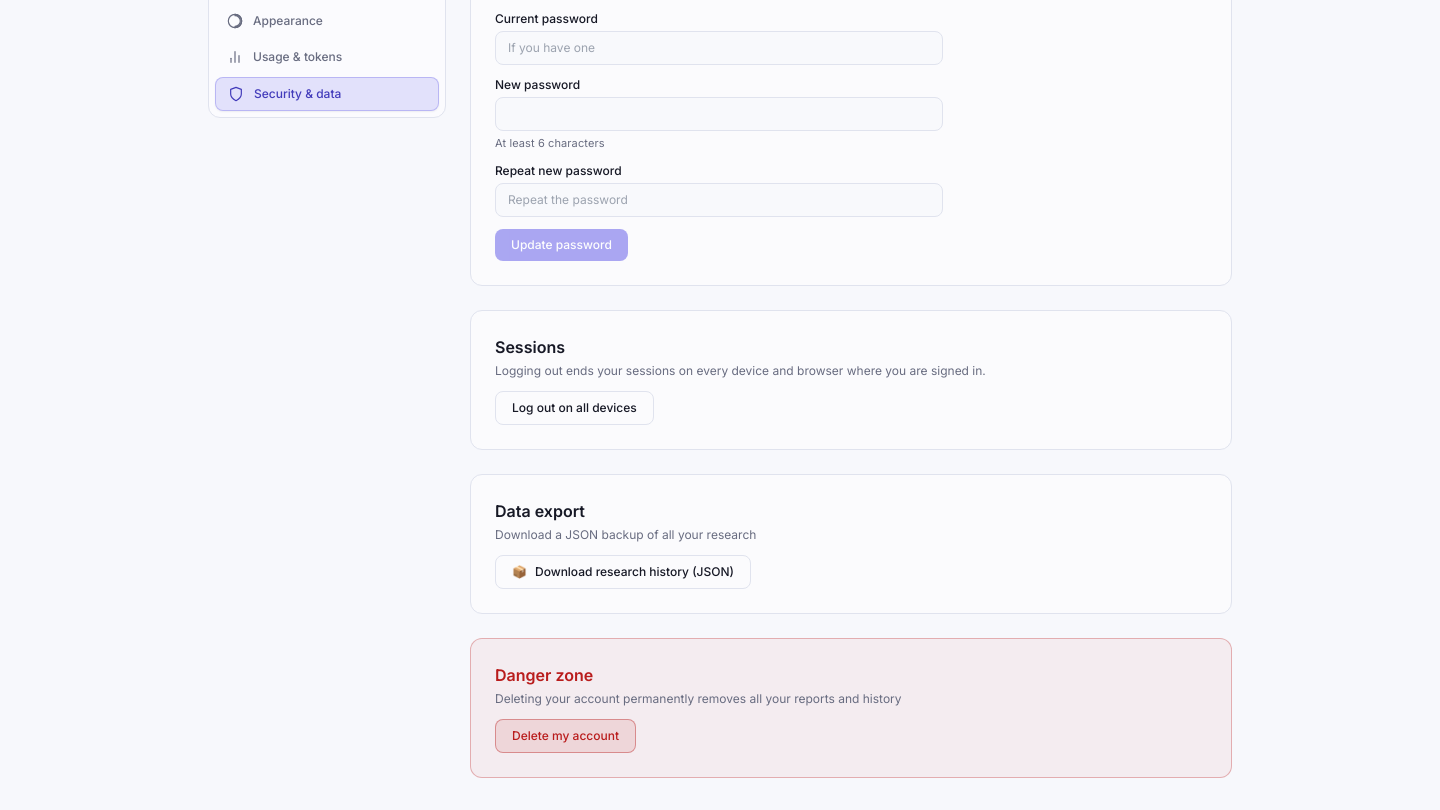
Scenario: SettingsView › drops the Google sign-in offer when the delete modal is closed
(page scrolled)
What coordinates should you click on to do the following:
click the button "Delete my account"
I would click on:
 (566, 736)
Its box is [495,719,636,753].
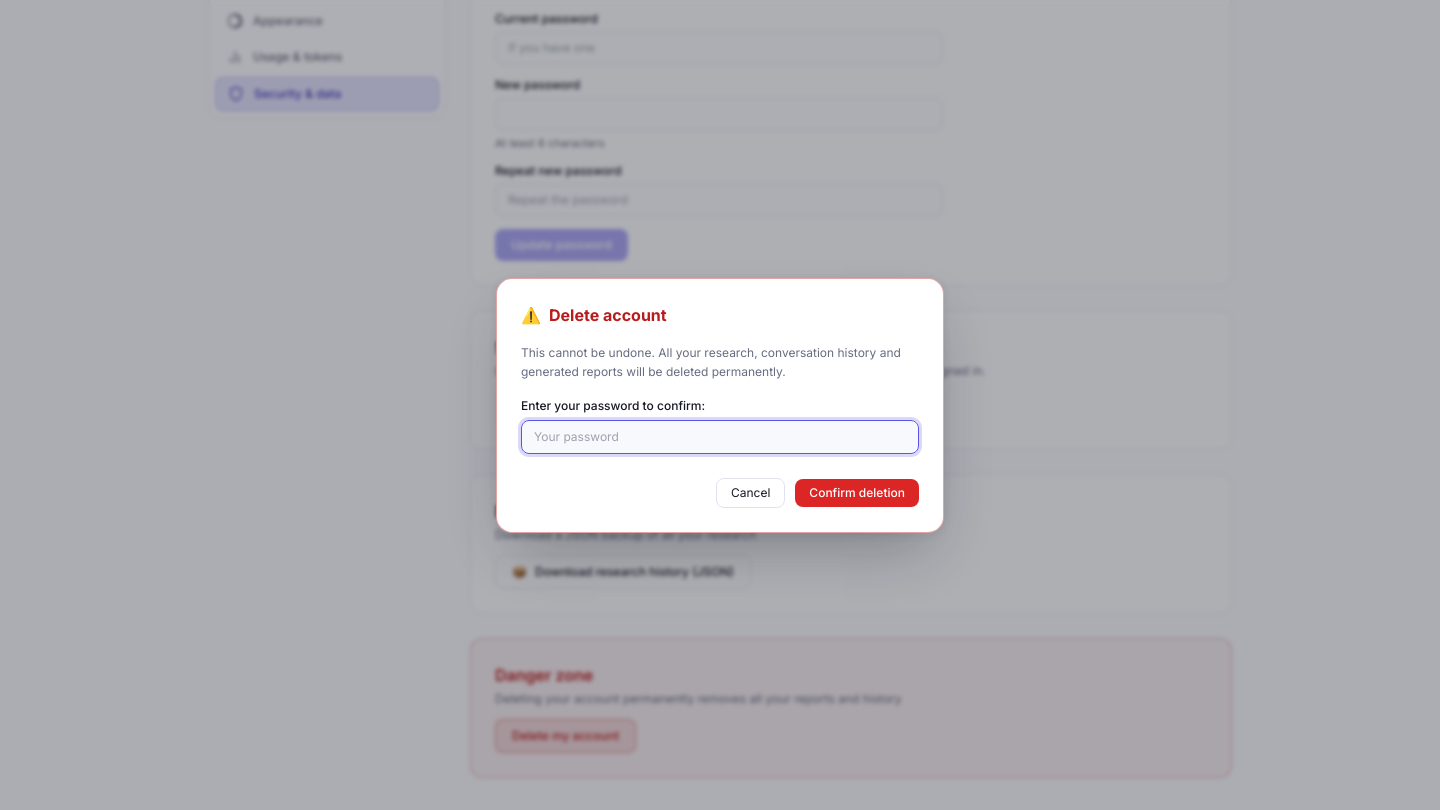
What coordinates should you click on to do the following:
click the button "Confirm deletion"
I would click on:
 (857, 492)
Its box is [795,478,919,506].
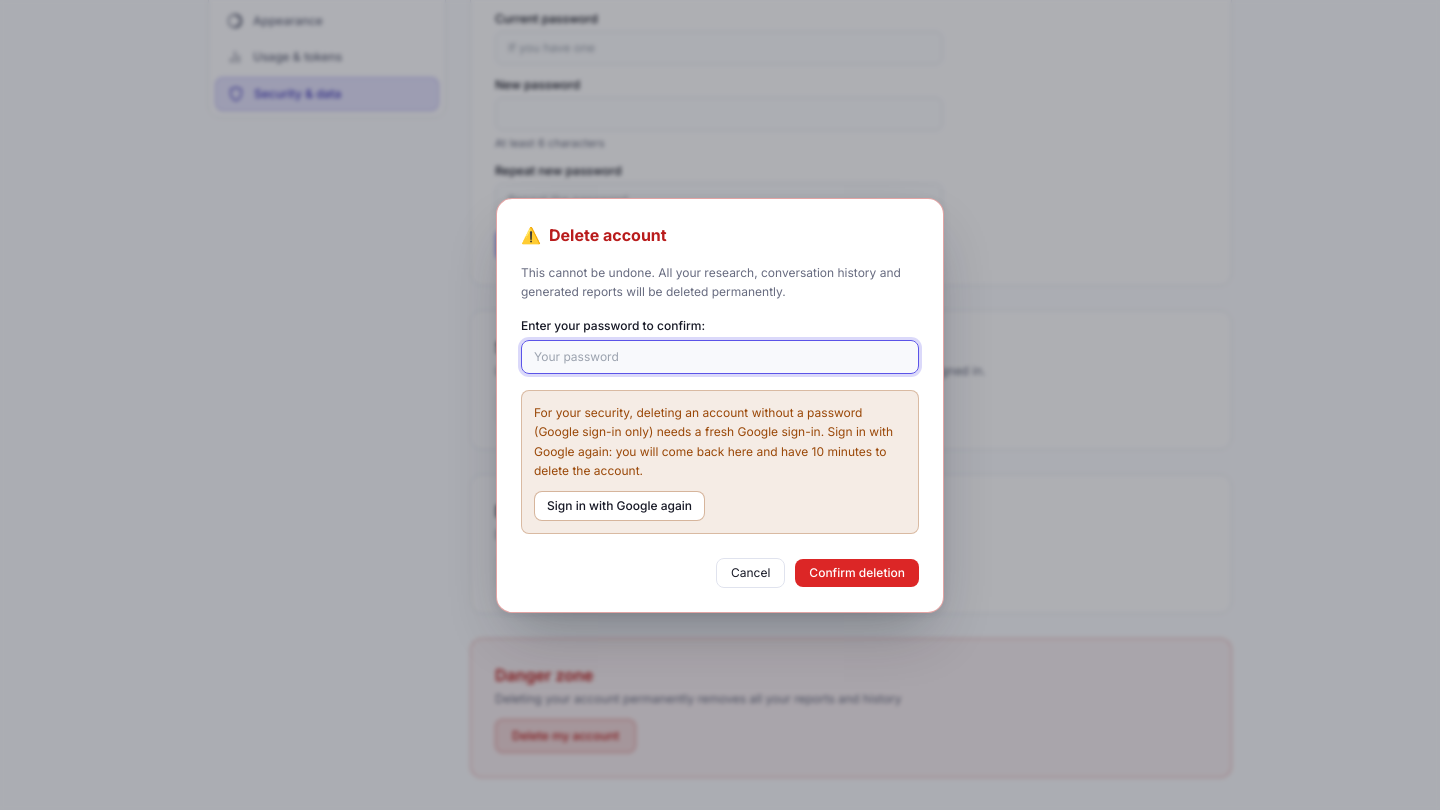
Now the text "For your security, deleting an account without a password (Google sign-in only) needs a fresh Google sign-in. Sign in with Google again: you will come back here" is shown, box [534,404,893,478]
What coordinates should you click on to do the following:
click the button "Cancel"
I would click on:
 (751, 572)
Its box is [716,558,785,588].
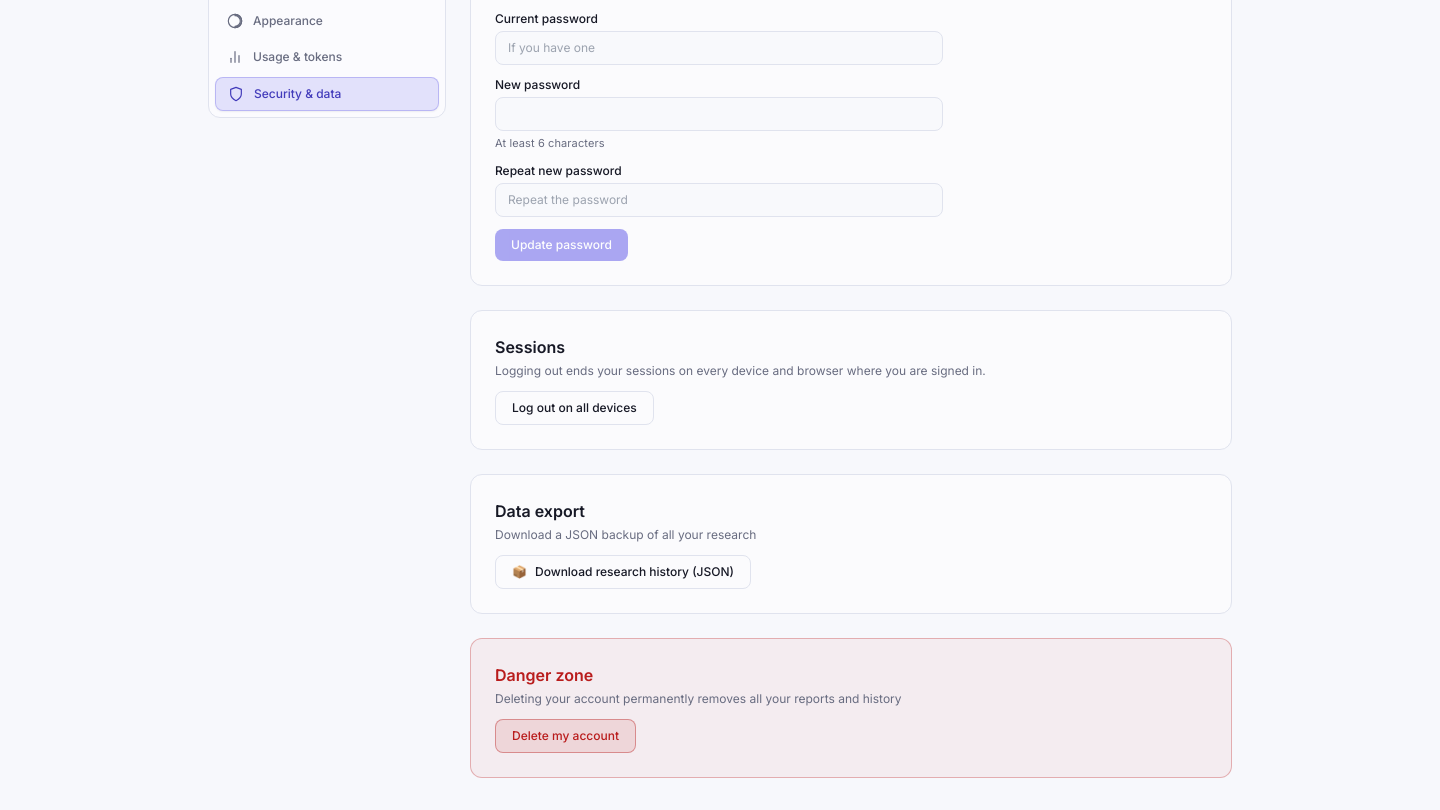
Now the text "Delete account" is gone
What coordinates should you click on to do the following:
click the button "Delete my account"
I would click on:
 (566, 736)
Its box is [495,719,636,753].
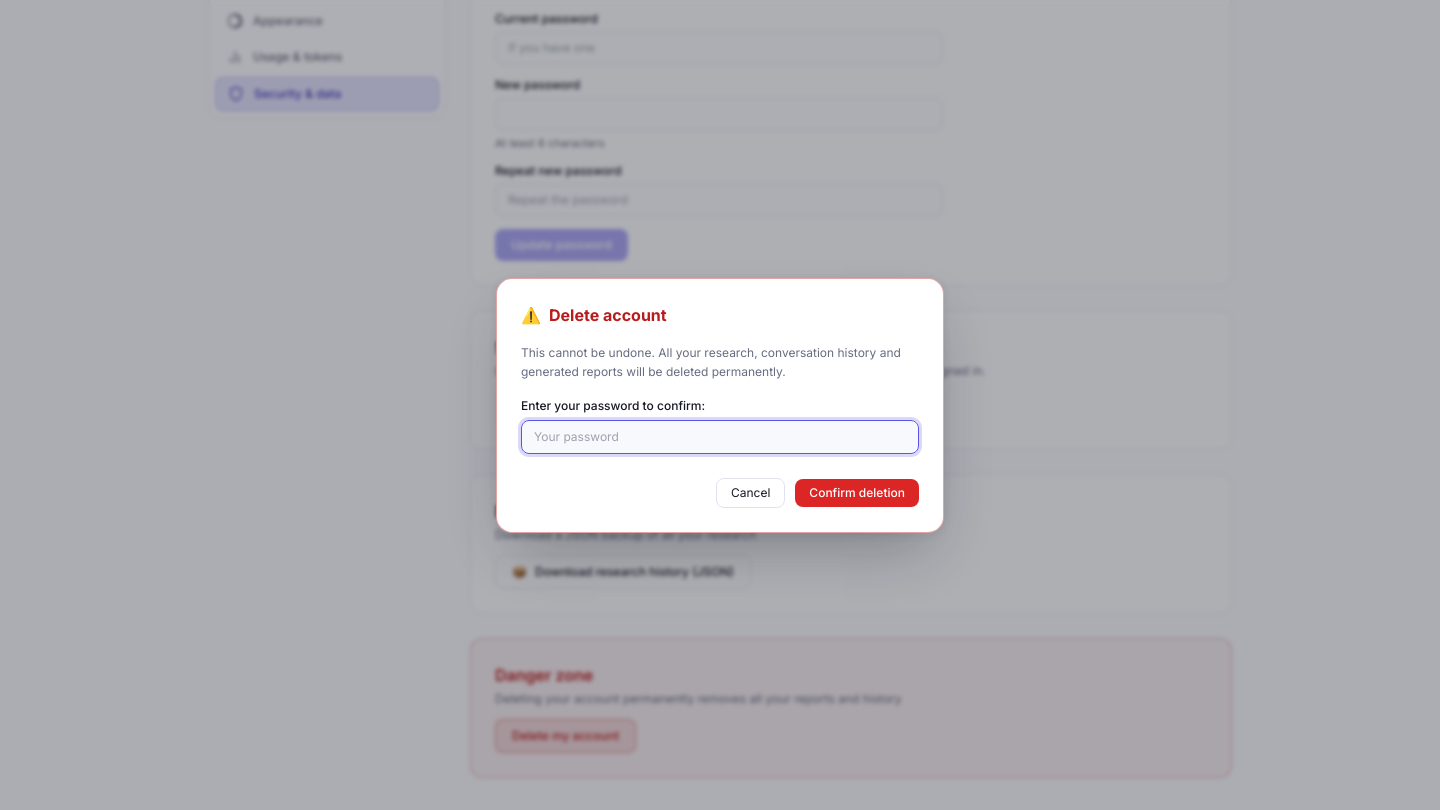
Expected: the text "Sign in with Google again" is not shown
Now the text "Delete account" is shown, box [549,302,667,326]
